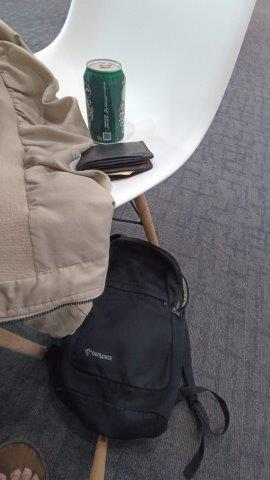kaleng: (84, 59, 126, 145)
